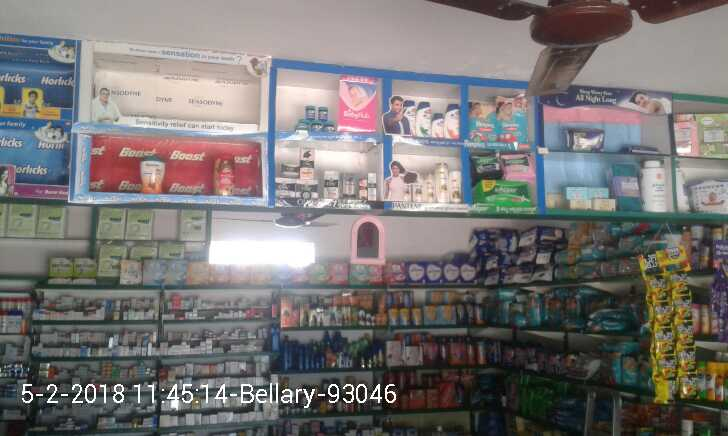beauty: (433, 159, 450, 207), (414, 98, 432, 138), (442, 102, 459, 141), (299, 144, 314, 180), (322, 170, 340, 198), (279, 159, 301, 180), (297, 178, 318, 200), (275, 179, 296, 198), (451, 168, 462, 203), (431, 110, 443, 138), (367, 171, 375, 199), (359, 177, 367, 199)
pharmacy: (494, 91, 532, 139), (471, 179, 527, 205), (468, 98, 496, 143), (471, 150, 503, 182), (503, 150, 534, 183), (317, 105, 328, 121), (304, 105, 315, 119)
